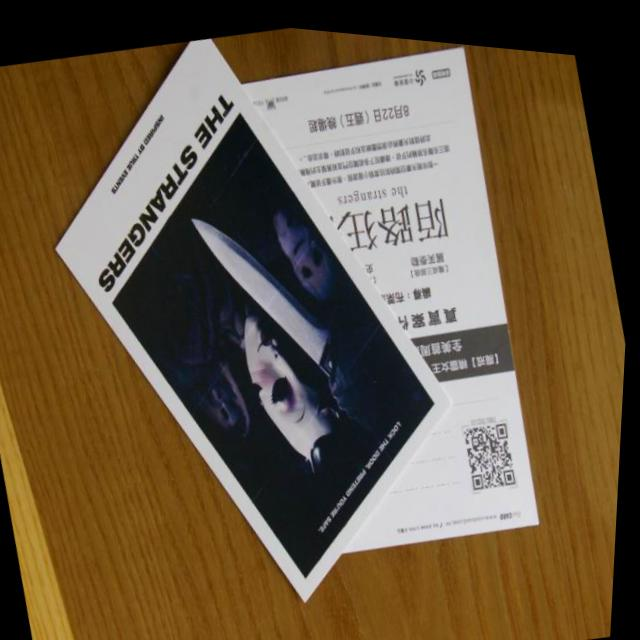qrcode: (466, 410, 522, 482)
